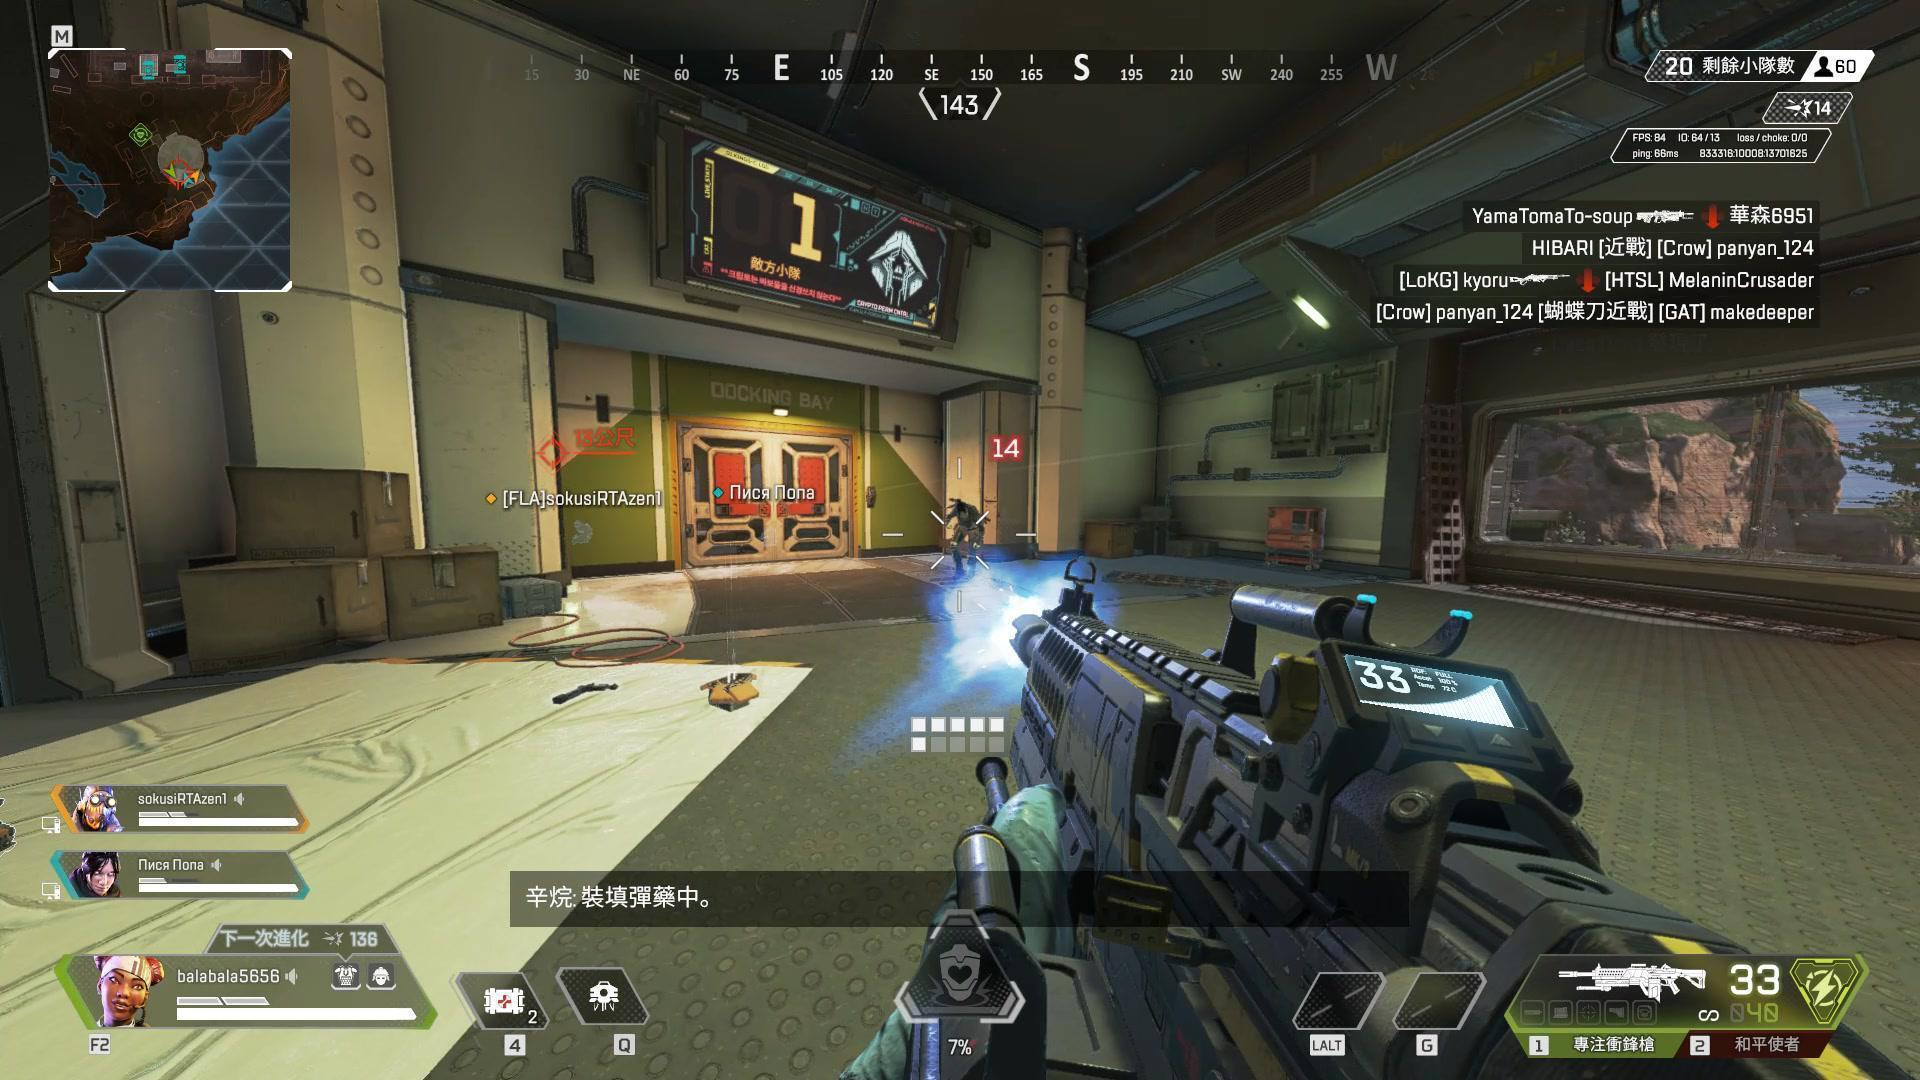avatar: (941, 496, 986, 580)
